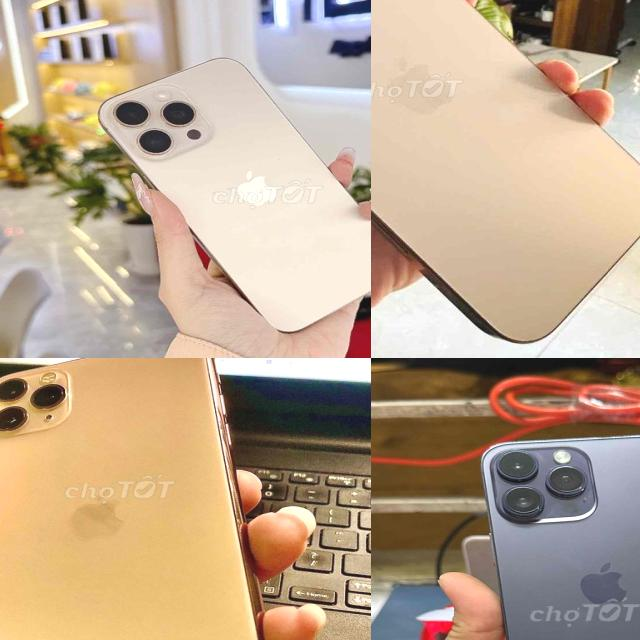gen_11: (0, 358, 282, 640)
gen_14: (476, 427, 640, 640)
gen_16: (371, 0, 640, 341), (99, 58, 371, 332)
